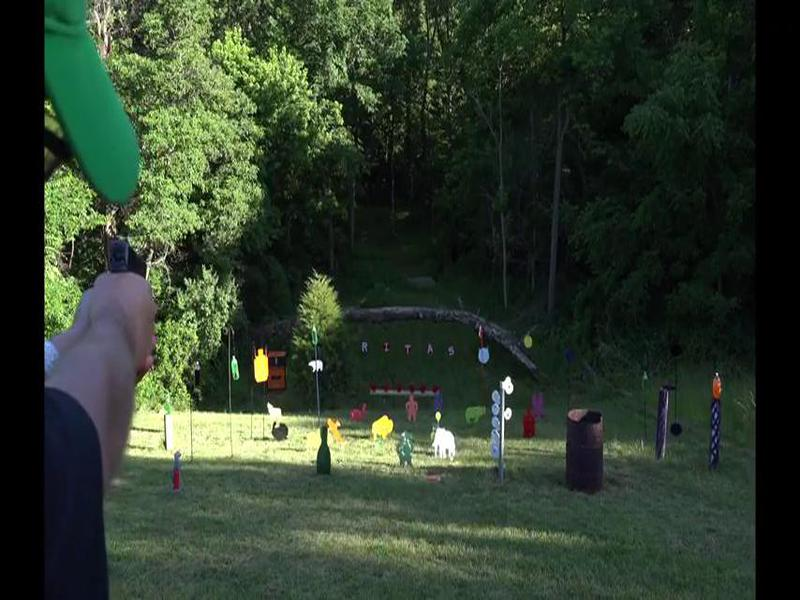Pistola: (93, 227, 182, 306)
